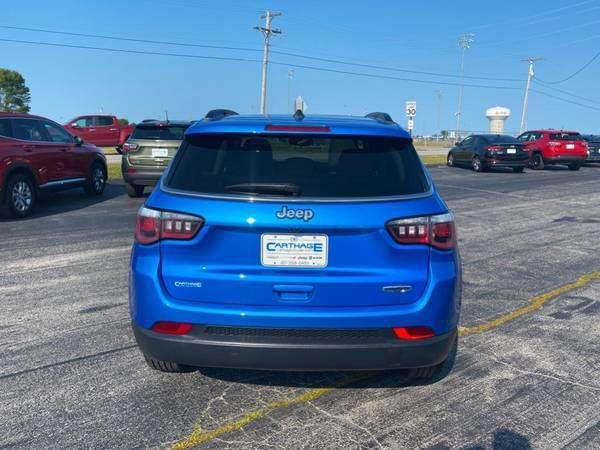Left_Taillight: (133, 204, 203, 244)
Rear_Bumper: (129, 240, 463, 368)
Rear_Windshield: (159, 132, 436, 199)
Right_Taillight: (386, 211, 458, 251)
Roof: (186, 112, 409, 137)
Tailgate: (145, 186, 449, 307)
